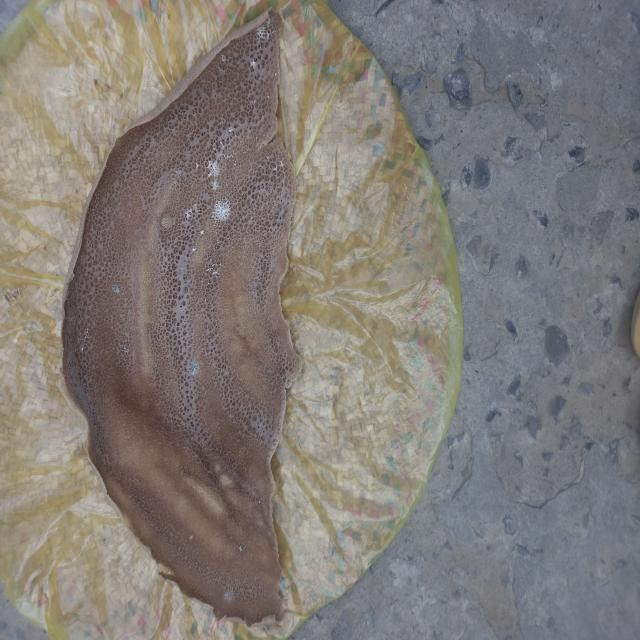injera_mold: (212, 197, 233, 224), (207, 258, 219, 283), (205, 158, 221, 176), (221, 585, 235, 604), (248, 54, 258, 71), (187, 362, 199, 375), (256, 26, 266, 41), (210, 183, 224, 192), (273, 160, 280, 176), (183, 207, 194, 217), (278, 157, 286, 170), (218, 140, 227, 150), (220, 53, 228, 64), (194, 163, 205, 171), (191, 159, 199, 170), (79, 343, 86, 354), (175, 168, 181, 180), (223, 154, 235, 160), (227, 125, 234, 135), (200, 226, 206, 237), (237, 544, 245, 552), (187, 533, 195, 541), (112, 285, 120, 293), (218, 67, 225, 75), (190, 246, 198, 252), (266, 17, 270, 27), (123, 345, 127, 353), (253, 97, 257, 105), (264, 154, 270, 159), (218, 121, 223, 126), (267, 91, 269, 101)
